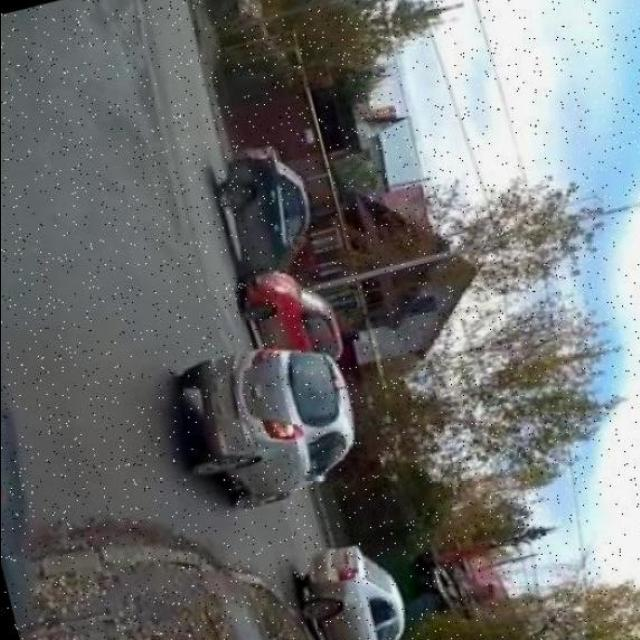accident: (230, 198, 338, 349)
